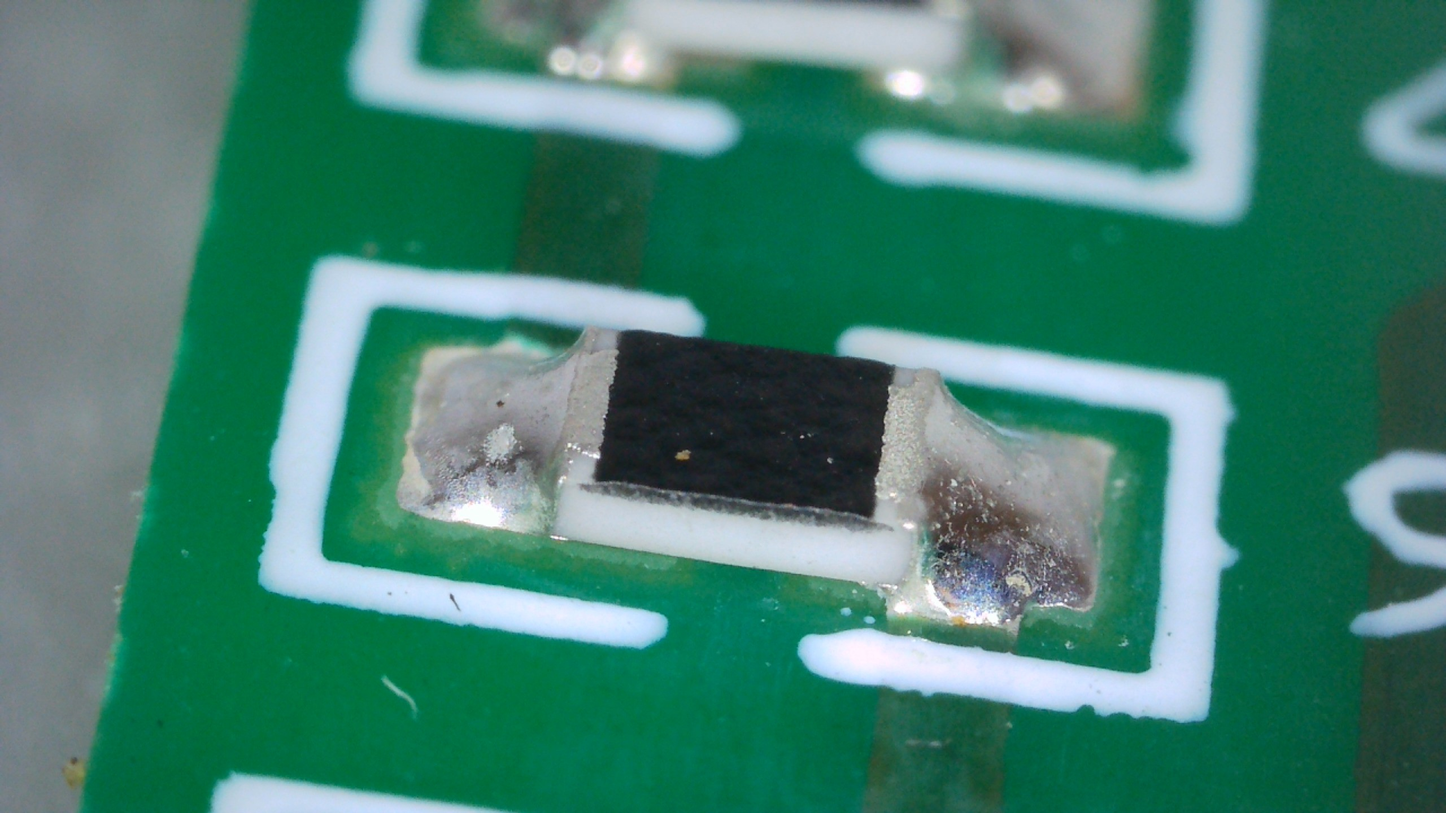OK: (872, 366, 1109, 627), (412, 327, 618, 535)
